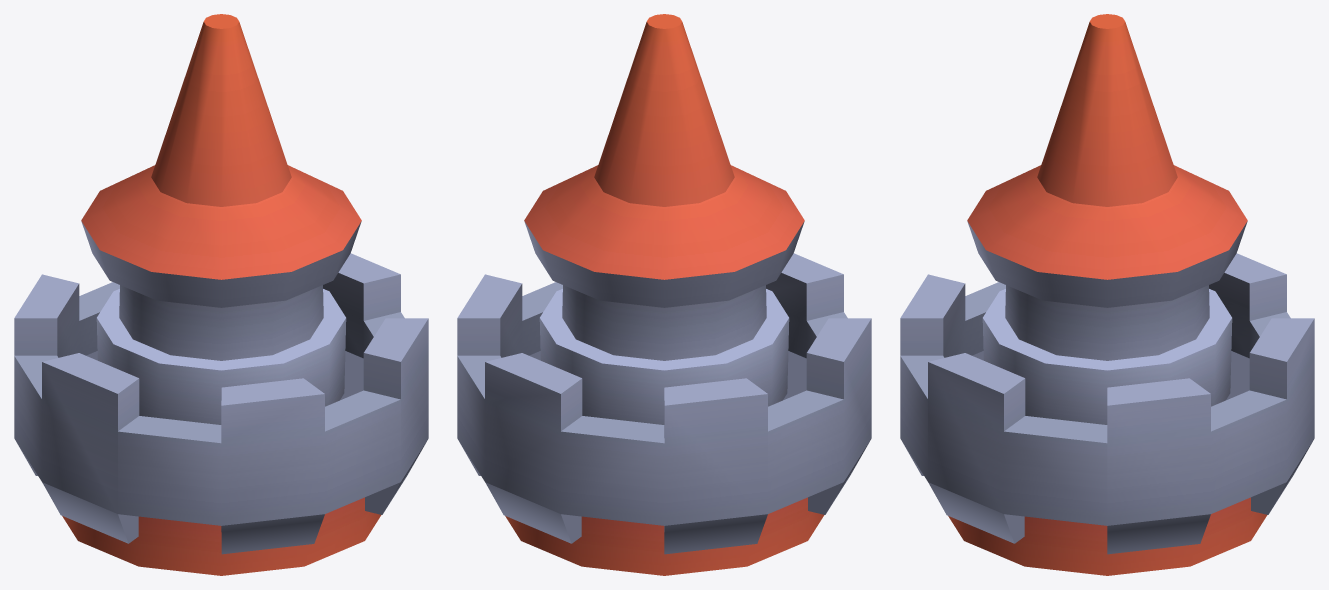
File: tower-round-roof-b.glb
3 views of the same model, side by side, from view 1: azimuth 30°, elevation 25°; view 2: azimuth 150°, elevation 25°; view 3: azimuth 270°, elevation 25° (orthographic).
Parts seen in each view (by area): view 1: tower-round-roof-b; view 2: tower-round-roof-b; view 3: tower-round-roof-b.
Part boxes in pixels (x1,y1,x2,y2): tower-round-roof-b: [14, 14, 428, 575]; tower-round-roof-b: [457, 14, 871, 575]; tower-round-roof-b: [900, 14, 1314, 575].
Size of the model in its own units: 1 by 1.29 by 1.
1 material, 1 textured.
